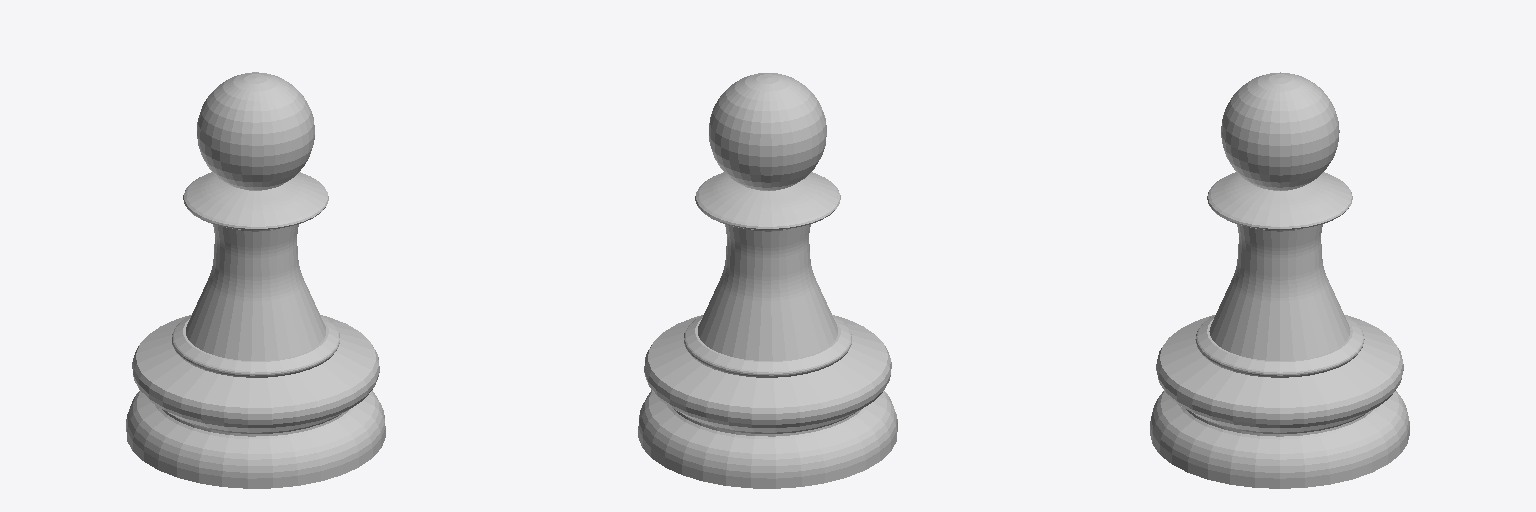
Rendered from pawn8.obj.
3 renders of one model, left to right at view 1: azimuth 30°, elevation 25°; view 2: azimuth 150°, elevation 25°; view 3: azimuth 270°, elevation 25°, orthographic.
Parts seen in each view (by area): view 1: Light_Pawn_8; view 2: Light_Pawn_8; view 3: Light_Pawn_8.
Boxes of the visible parts, x1=… form: Light_Pawn_8: x1=126, y1=72, x2=385, y2=488; Light_Pawn_8: x1=638, y1=73, x2=897, y2=488; Light_Pawn_8: x1=1150, y1=72, x2=1409, y2=488.
Bounding box in the file's own units: 1.15 × 1.73 × 1.15.